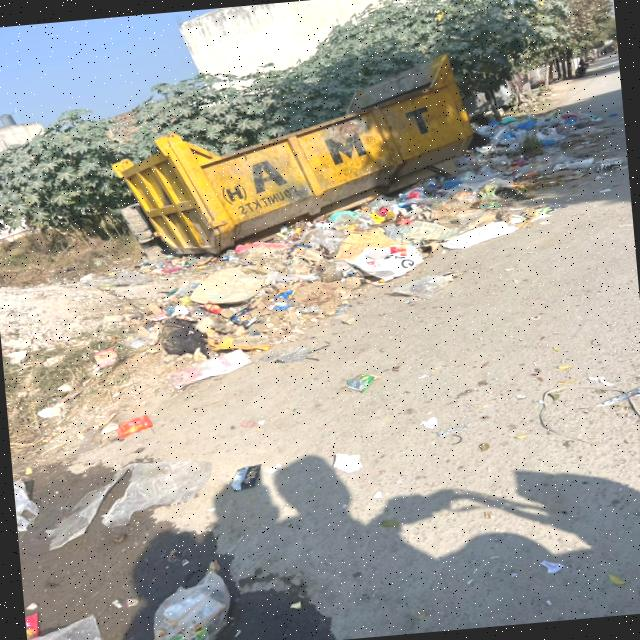garbage: (147, 182, 518, 392), (426, 104, 602, 237)
